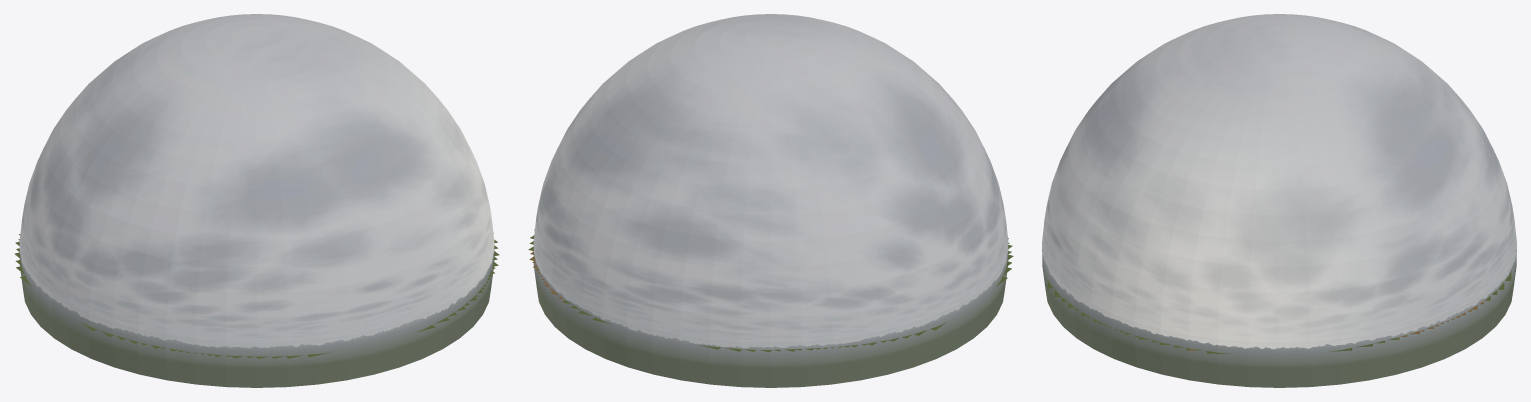
File: fields_to_netherfield.gltf
3 renders of one model, left to right at view 1: azimuth 30°, elevation 25°; view 2: azimuth 150°, elevation 25°; view 3: azimuth 270°, elevation 25°, orthographic.
Visible parts, largest first — view 1: SkyDome, far.land; view 2: SkyDome, far.land; view 3: SkyDome, far.land.
Boxes of the visible parts, x1,y1,x2,y2 form: SkyDome: (19, 14, 494, 387); far.land: (14, 233, 499, 358); SkyDome: (533, 14, 1008, 387); far.land: (528, 229, 1013, 352); SkyDome: (1042, 14, 1516, 387); far.land: (1047, 271, 1511, 353).
Size of the model in its own units: 248 by 146 by 248.
20 materials, 20 textured.
